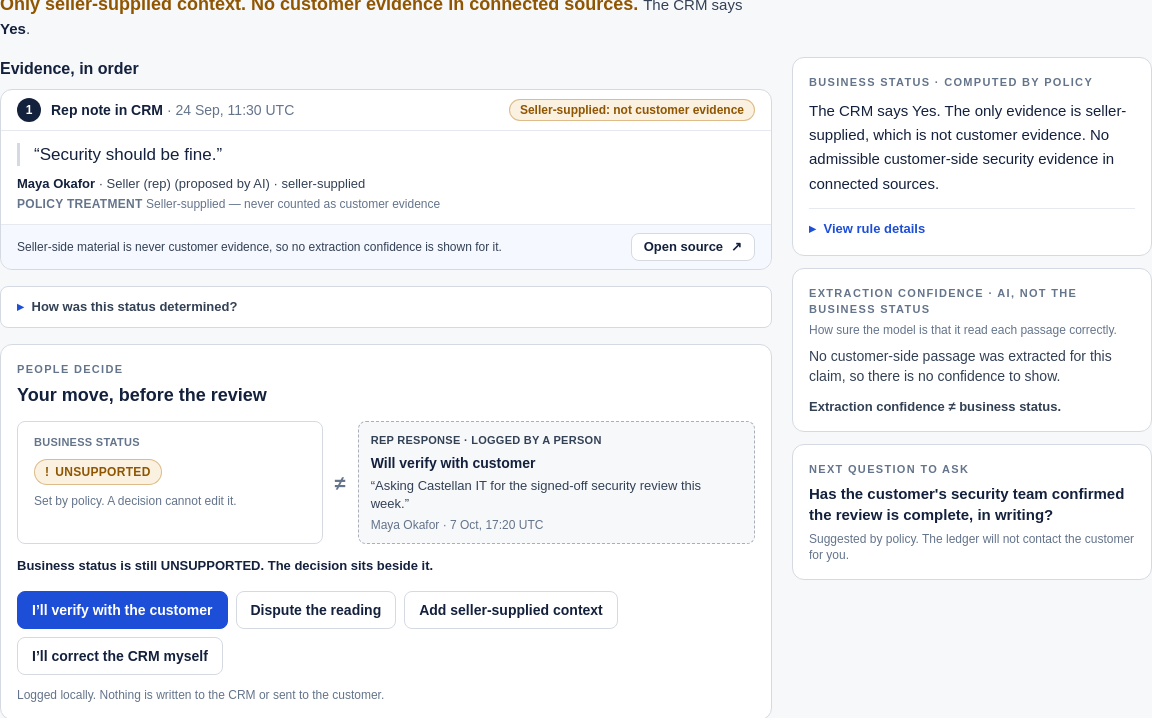
Test: Screen 5: rep-first view › seller-supplied context is labelled as such and Security stays UNSUPPORTED
(page scrolled)
Click the button "Add seller-supplied context".
click(511, 610)  # box x1=404 y1=591 x2=618 y2=629
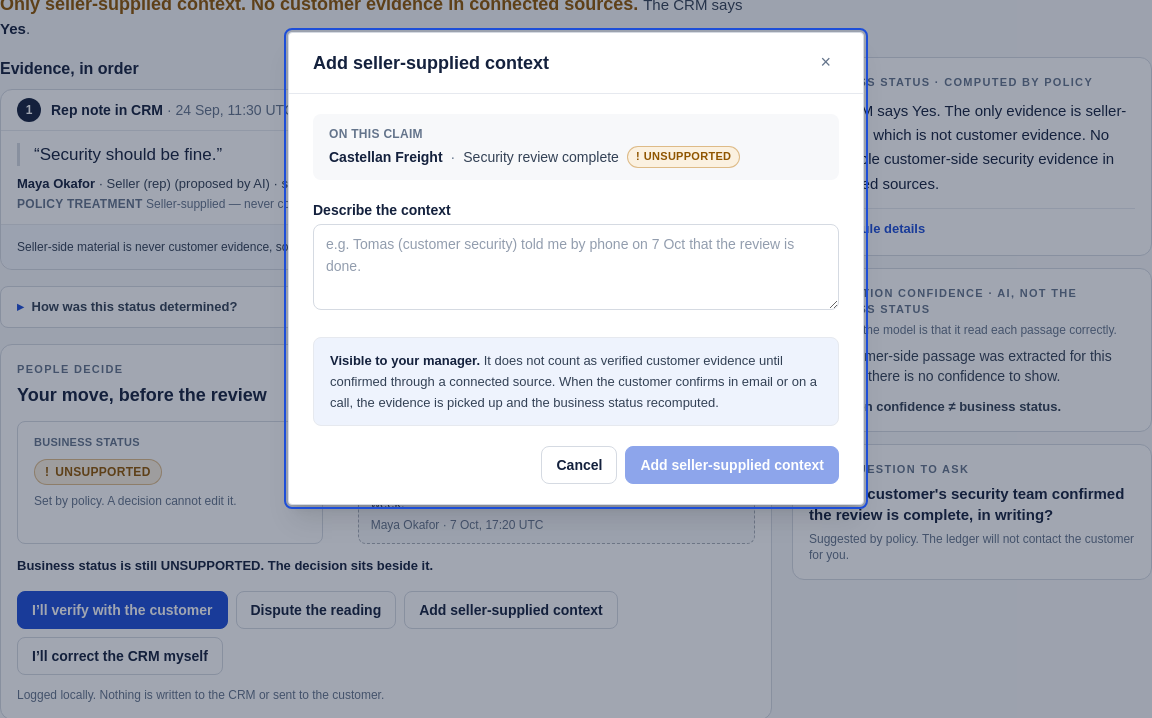
Now the dialog "Add seller-supplied context" shows "Visible to your manager. It does not count as verified customer evidence until confirmed through a connected source.", box x1=288 y1=32 x2=864 y2=505
Type "Tomas confirmed by phone on 7 Oct that the review is done." into the text box labelled "Describe the context".
click(576, 267); type("Tomas confirmed by phone on 7 Oct that the review is done.")  # box x1=313 y1=224 x2=839 y2=310
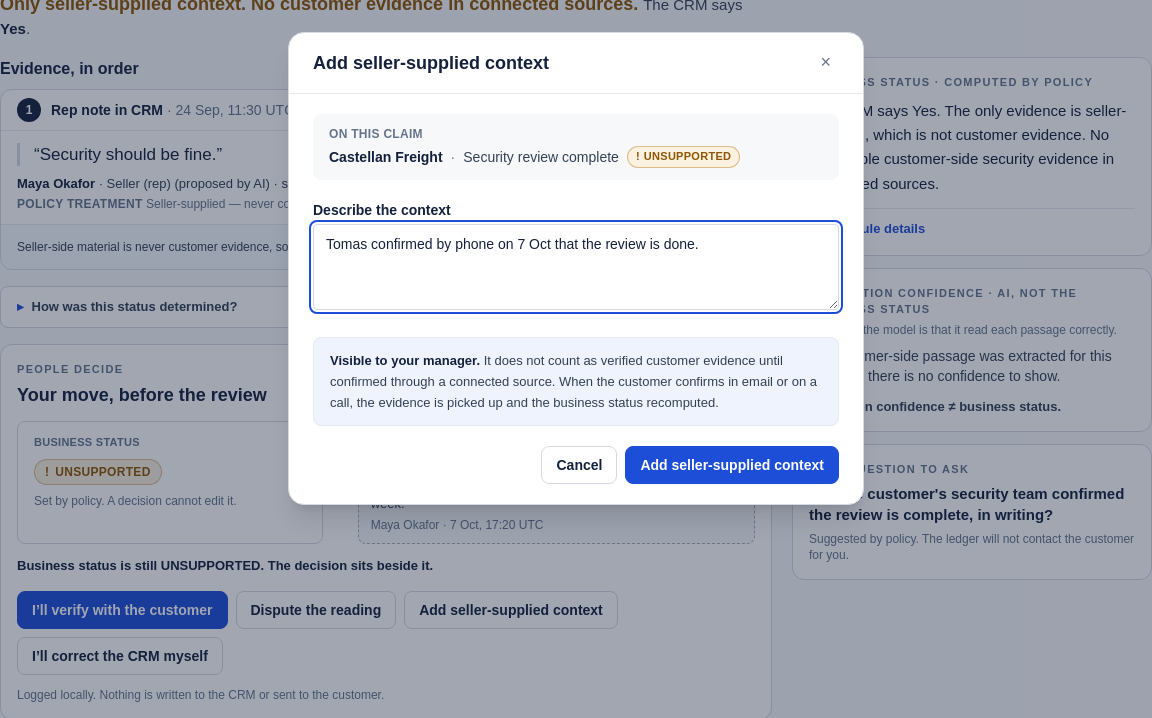
Click the button "Add seller-supplied context".
click(732, 465)  # box x1=625 y1=446 x2=839 y2=484
(page scrolled)
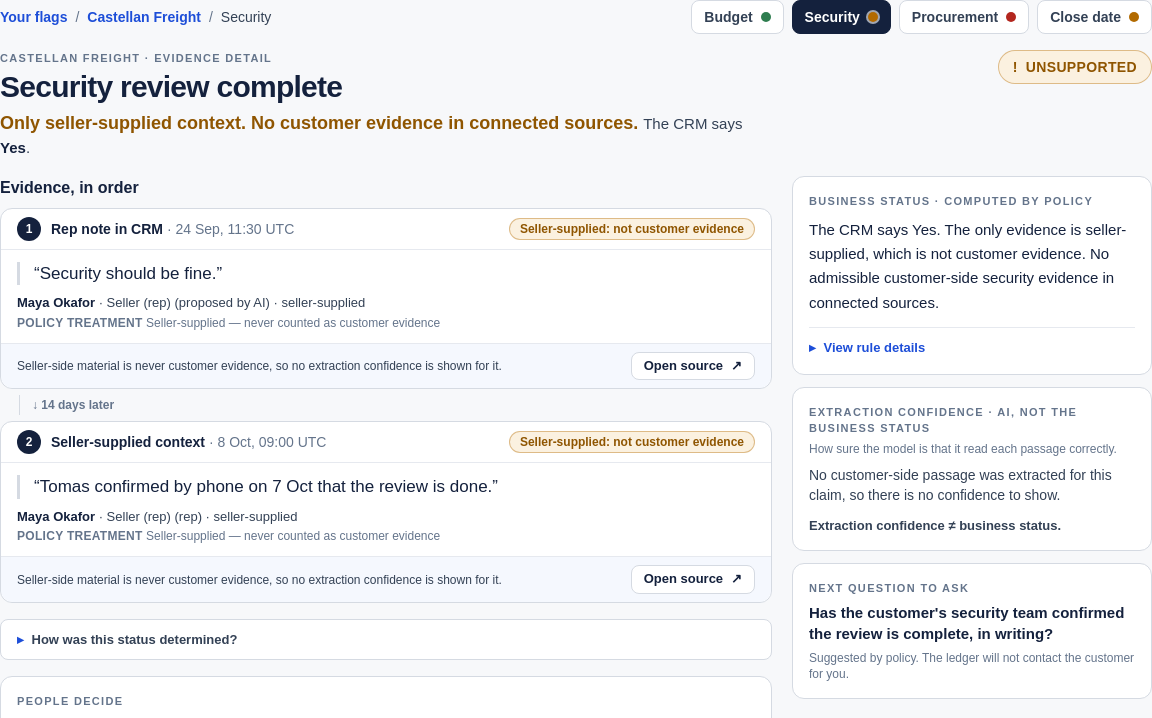
Expected: the text "Unsupported" is shown, x1=1026 y1=59 x2=1137 y2=75
Now the text "Seller-supplied: not customer evidence" is shown 2 times, box x1=509 y1=218 x2=755 y2=240; x1=509 y1=431 x2=755 y2=453
